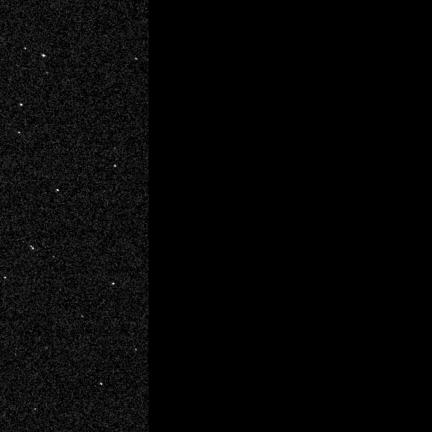blob: (42, 54, 46, 58), (56, 189, 60, 192), (112, 283, 115, 286), (32, 247, 35, 250), (100, 383, 103, 386), (114, 165, 117, 168), (20, 104, 23, 107), (135, 58, 138, 61), (19, 132, 21, 135), (4, 277, 7, 279)
